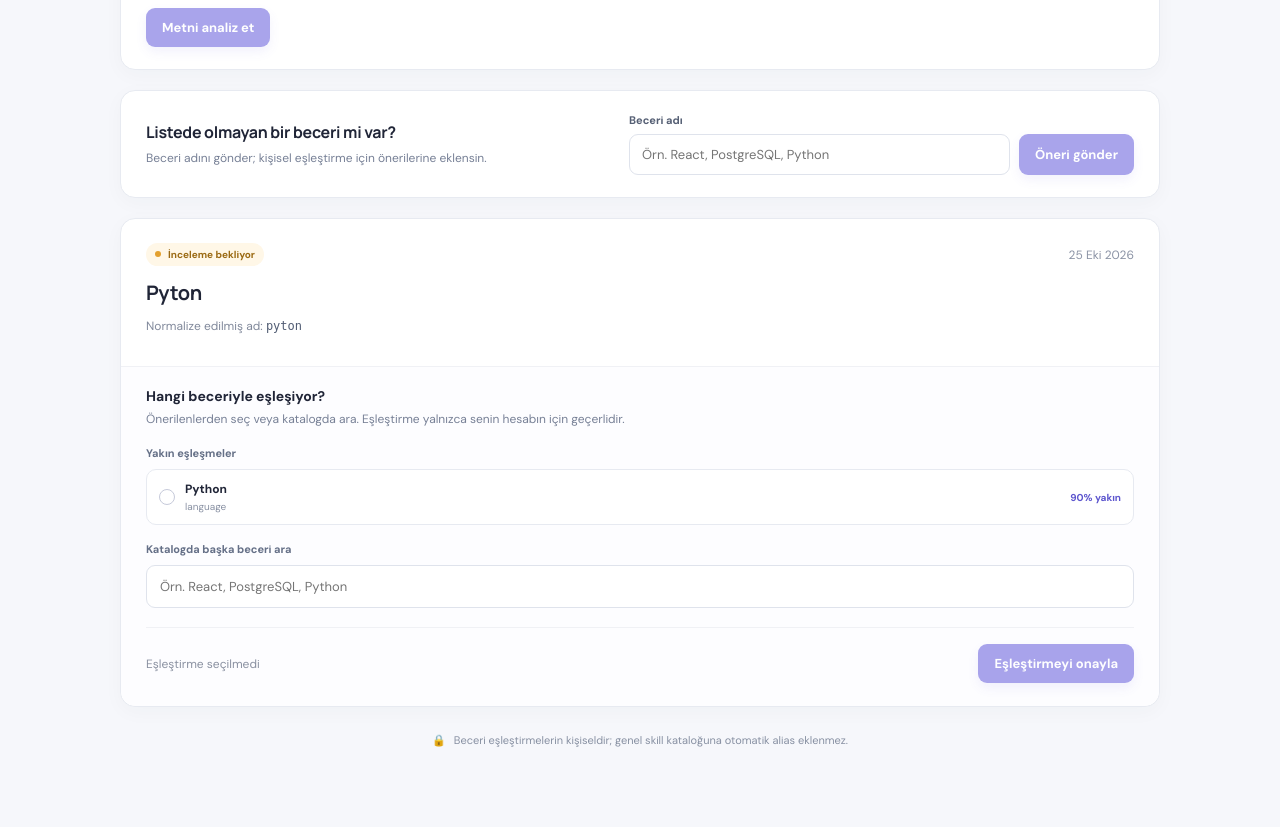
Test: skill suggestion input › shows a request error if mapping fails with a non-401 response
(page scrolled)
Click the button "Python language 90% yakın".
click(206, 489)  # box [146,469,1134,525]
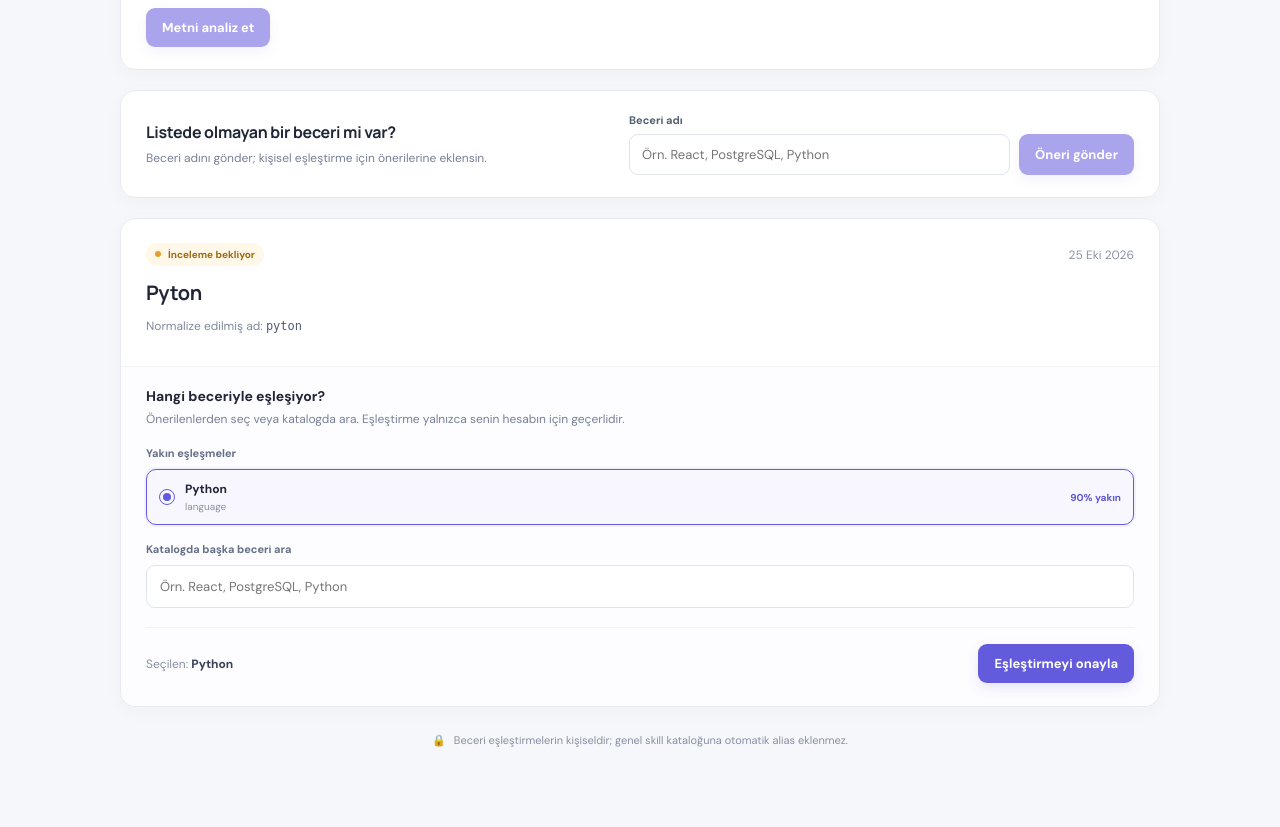
Click the button "Eşleştirmeyi onayla".
click(1056, 664)  # box [978,644,1134,683]
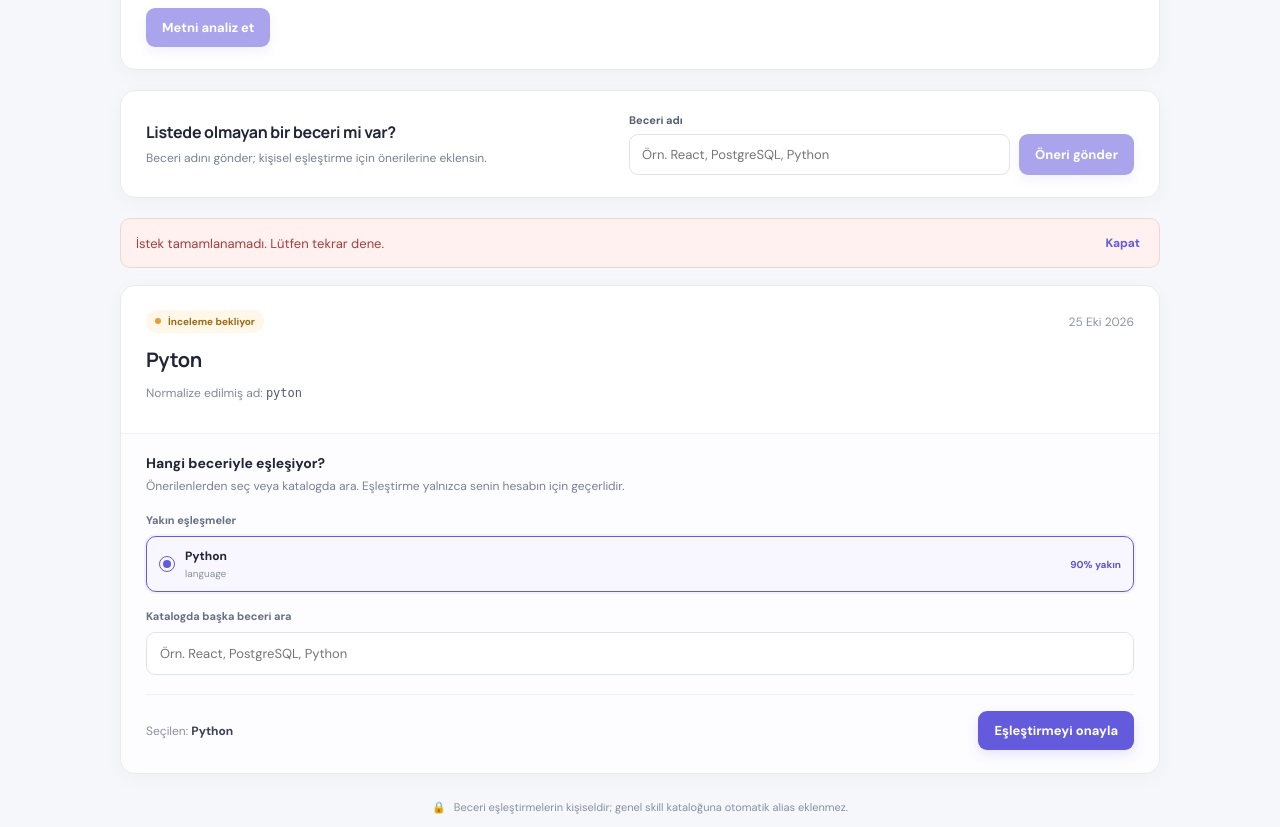
Check: the heading "Pyton" is shown, box [146,346,202,373]
Check: the message shows "İstek tamamlanamadı", box [136,235,384,252]
